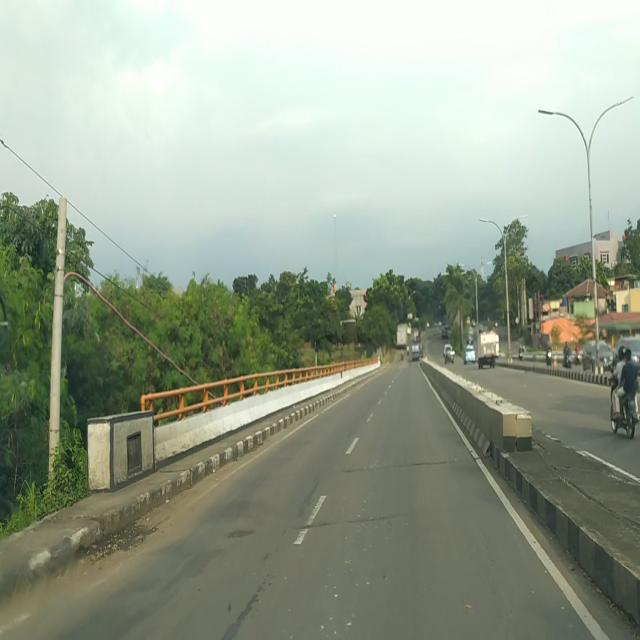Sewer Cover: (340, 456, 472, 475), (292, 515, 400, 532), (222, 528, 258, 541)
